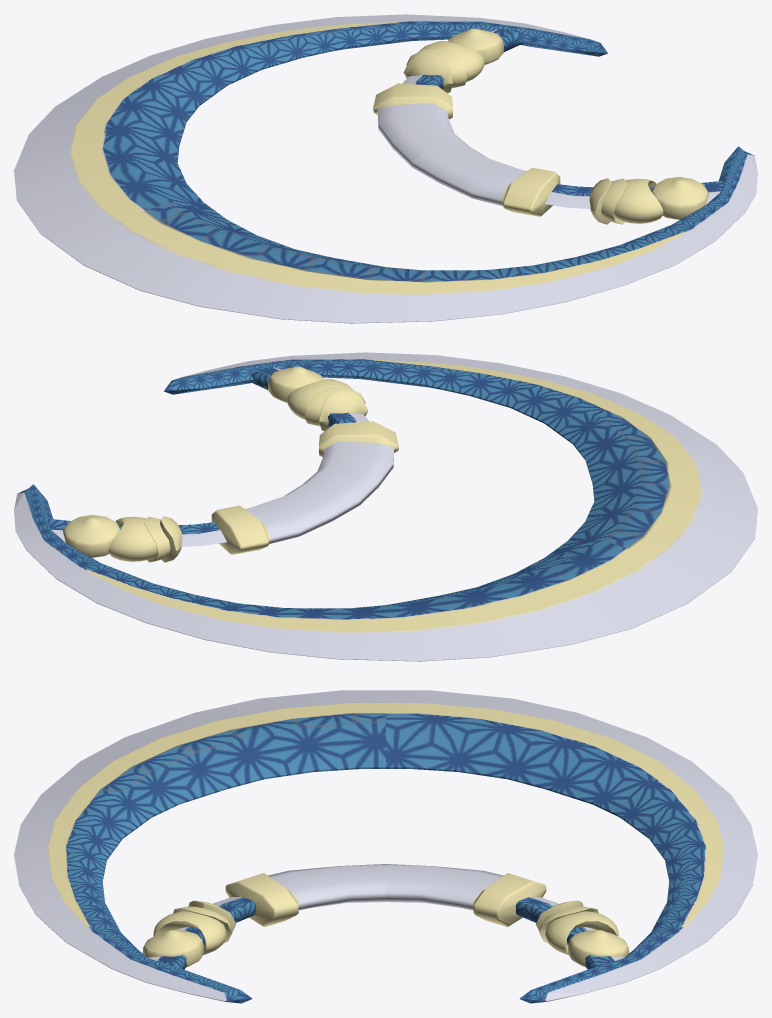
The model's file is Moonset_FBX_Chakram_03.fbx.
The picture shows the model from 3 angles, top to bottom: view 1: azimuth 30°, elevation 25°; view 2: azimuth 150°, elevation 25°; view 3: azimuth 270°, elevation 25°; orthographic projection. The views are drawn at different scales.
Parts seen in each view (by area): view 1: Chakram_Shape; view 2: Chakram_Shape; view 3: Chakram_Shape.
Part boxes in pixels (x1,y1,x2,y2): Chakram_Shape: [14, 14, 757, 323]; Chakram_Shape: [14, 352, 757, 661]; Chakram_Shape: [14, 690, 757, 1003].
Size of the model in its own units: 1.06 by 0.0694 by 1.07.
